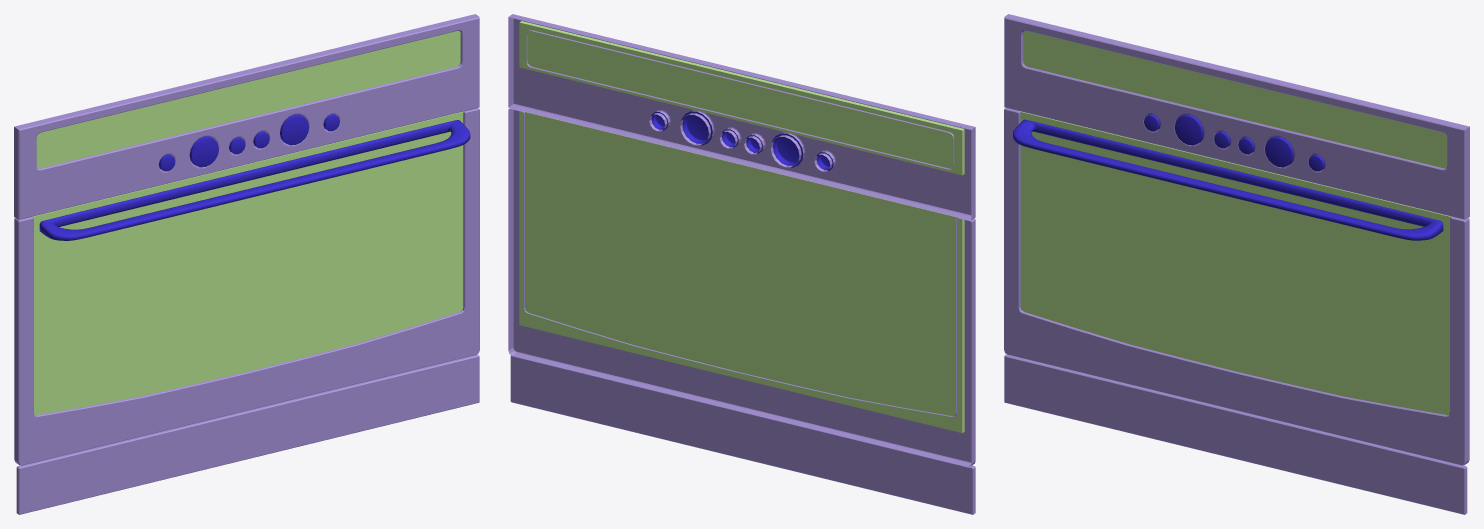
File: House_Oven.FBX
3 views of the same model, side by side, from view 1: azimuth 30°, elevation 25°; view 2: azimuth 150°, elevation 25°; view 3: azimuth 330°, elevation 25° (orthographic).
Parts seen in each view (by area): view 1: House_Oven_Glass, House_Oven_Metal, House_Oven_Handle; view 2: House_Oven_Glass, House_Oven_Metal, House_Oven_Handle; view 3: House_Oven_Glass, House_Oven_Metal, House_Oven_Handle.
Boxes of the visible parts, <box> form: House_Oven_Glass: <box>32,31,463,414</box>; House_Oven_Metal: <box>14,14,479,514</box>; House_Oven_Handle: <box>39,114,470,240</box>; House_Oven_Glass: <box>519,21,964,433</box>; House_Oven_Metal: <box>508,14,975,514</box>; House_Oven_Handle: <box>651,111,833,170</box>; House_Oven_Glass: <box>1020,31,1451,414</box>; House_Oven_Metal: <box>1004,14,1469,514</box>; House_Oven_Handle: <box>1013,114,1443,240</box>.
Size of the model in its own units: 57.87 by 46.19 by 5.13.
